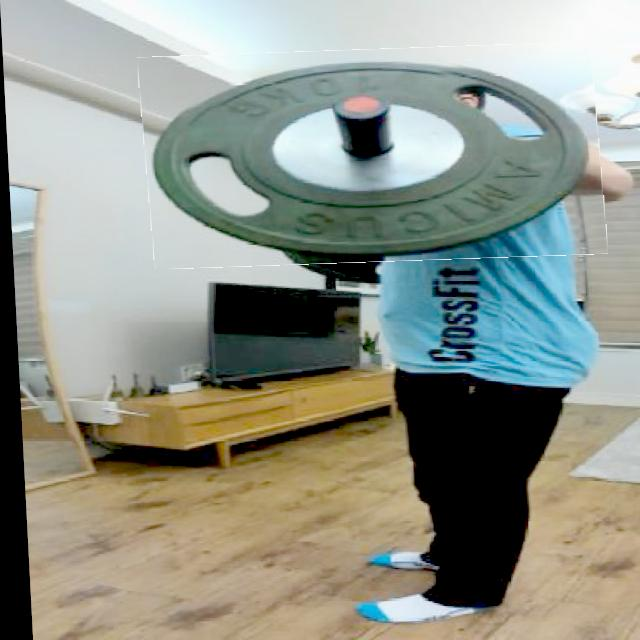barbell: (139, 47, 605, 267)
